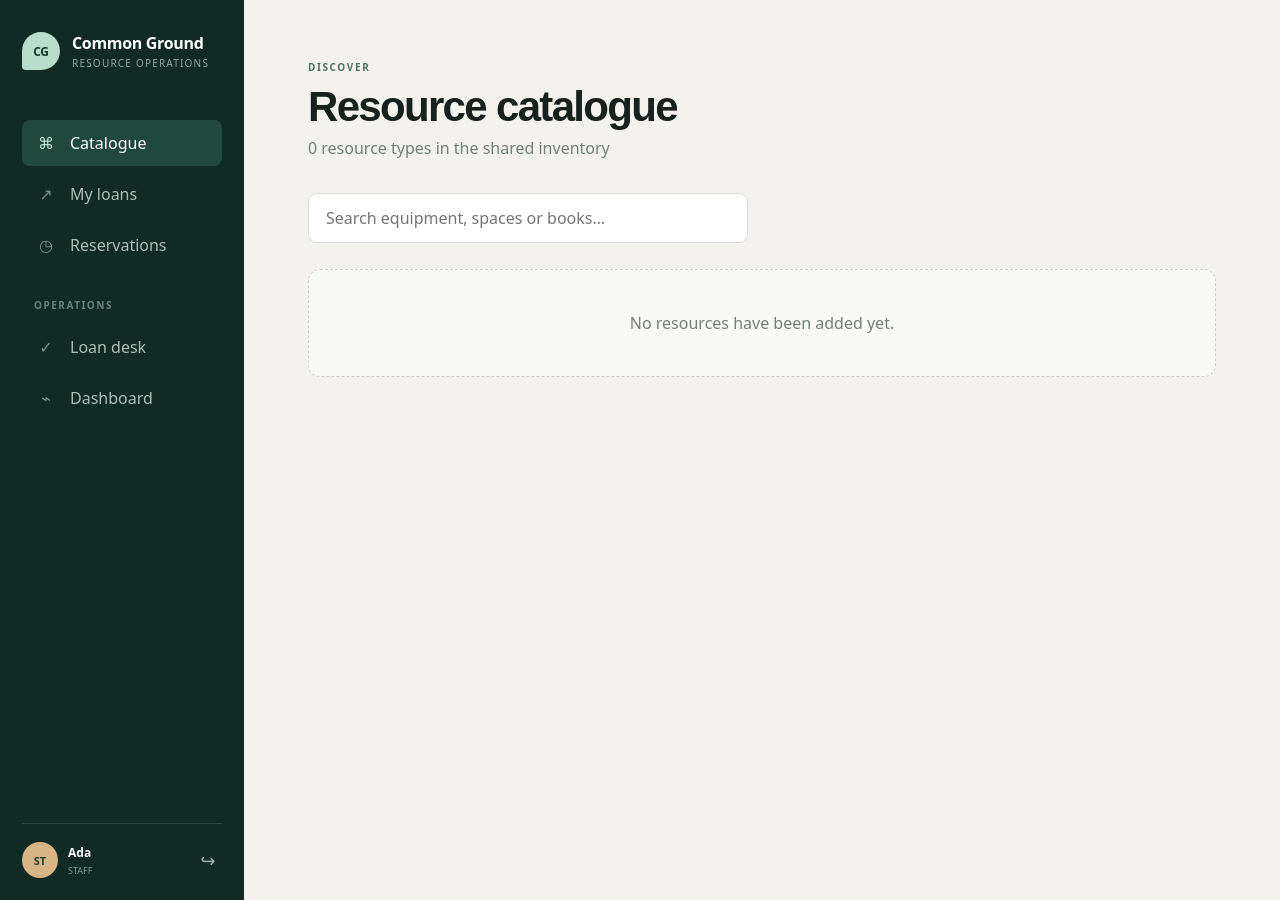
role-aware application shell › shows staff tools and clears both client and server sessions on sign out
The image size is (1280, 900).
Expected: the button "✓ Loan desk" is shown, [22,324,222,370]
Click the button named "Sign out".
click(208, 860)  # box [194,847,222,873]
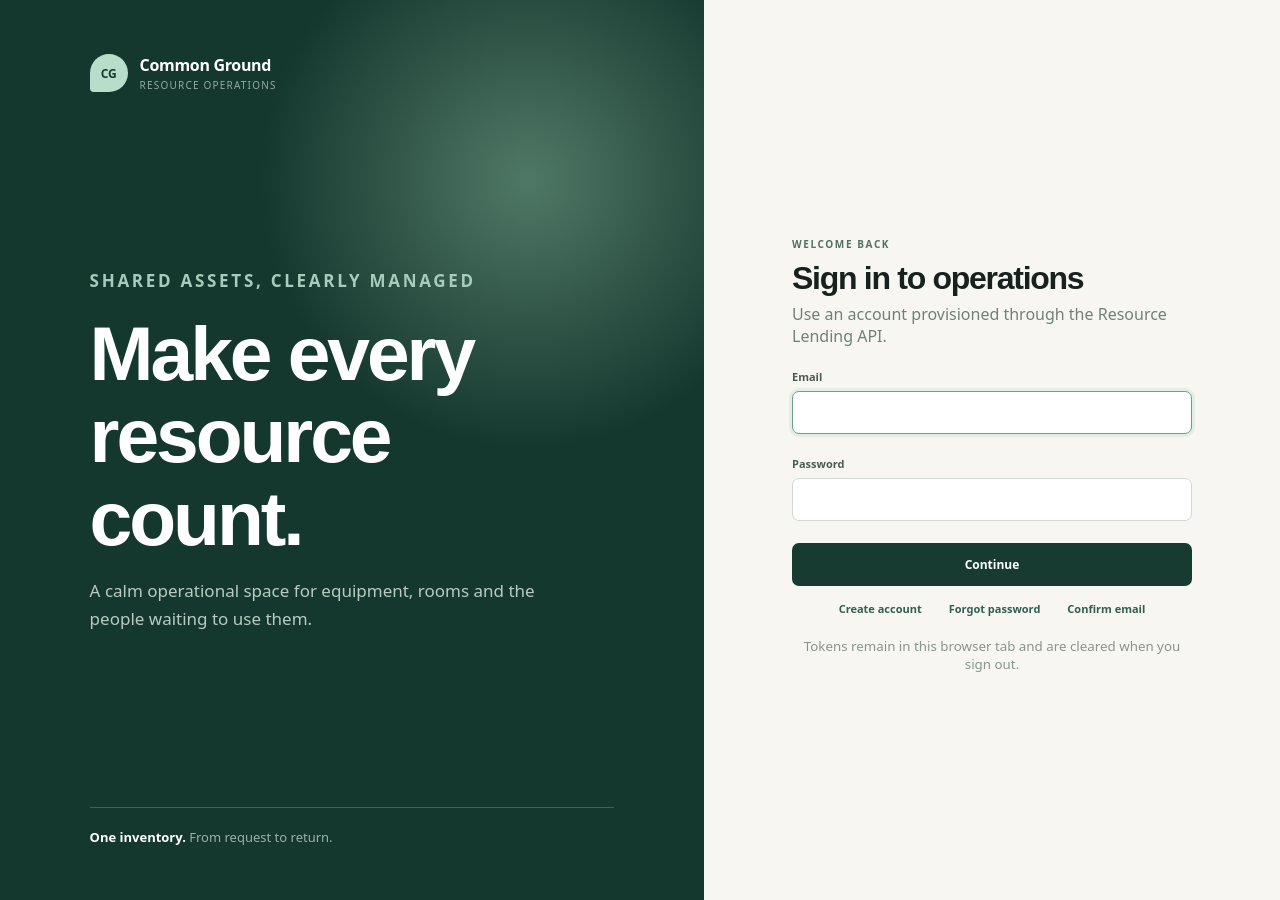
Now the heading "Sign in to operations" is shown, box [792,260,1083,296]
